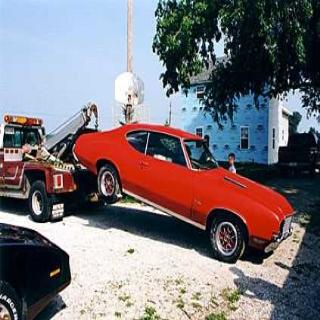Towing_truck: (0, 100, 110, 224)
